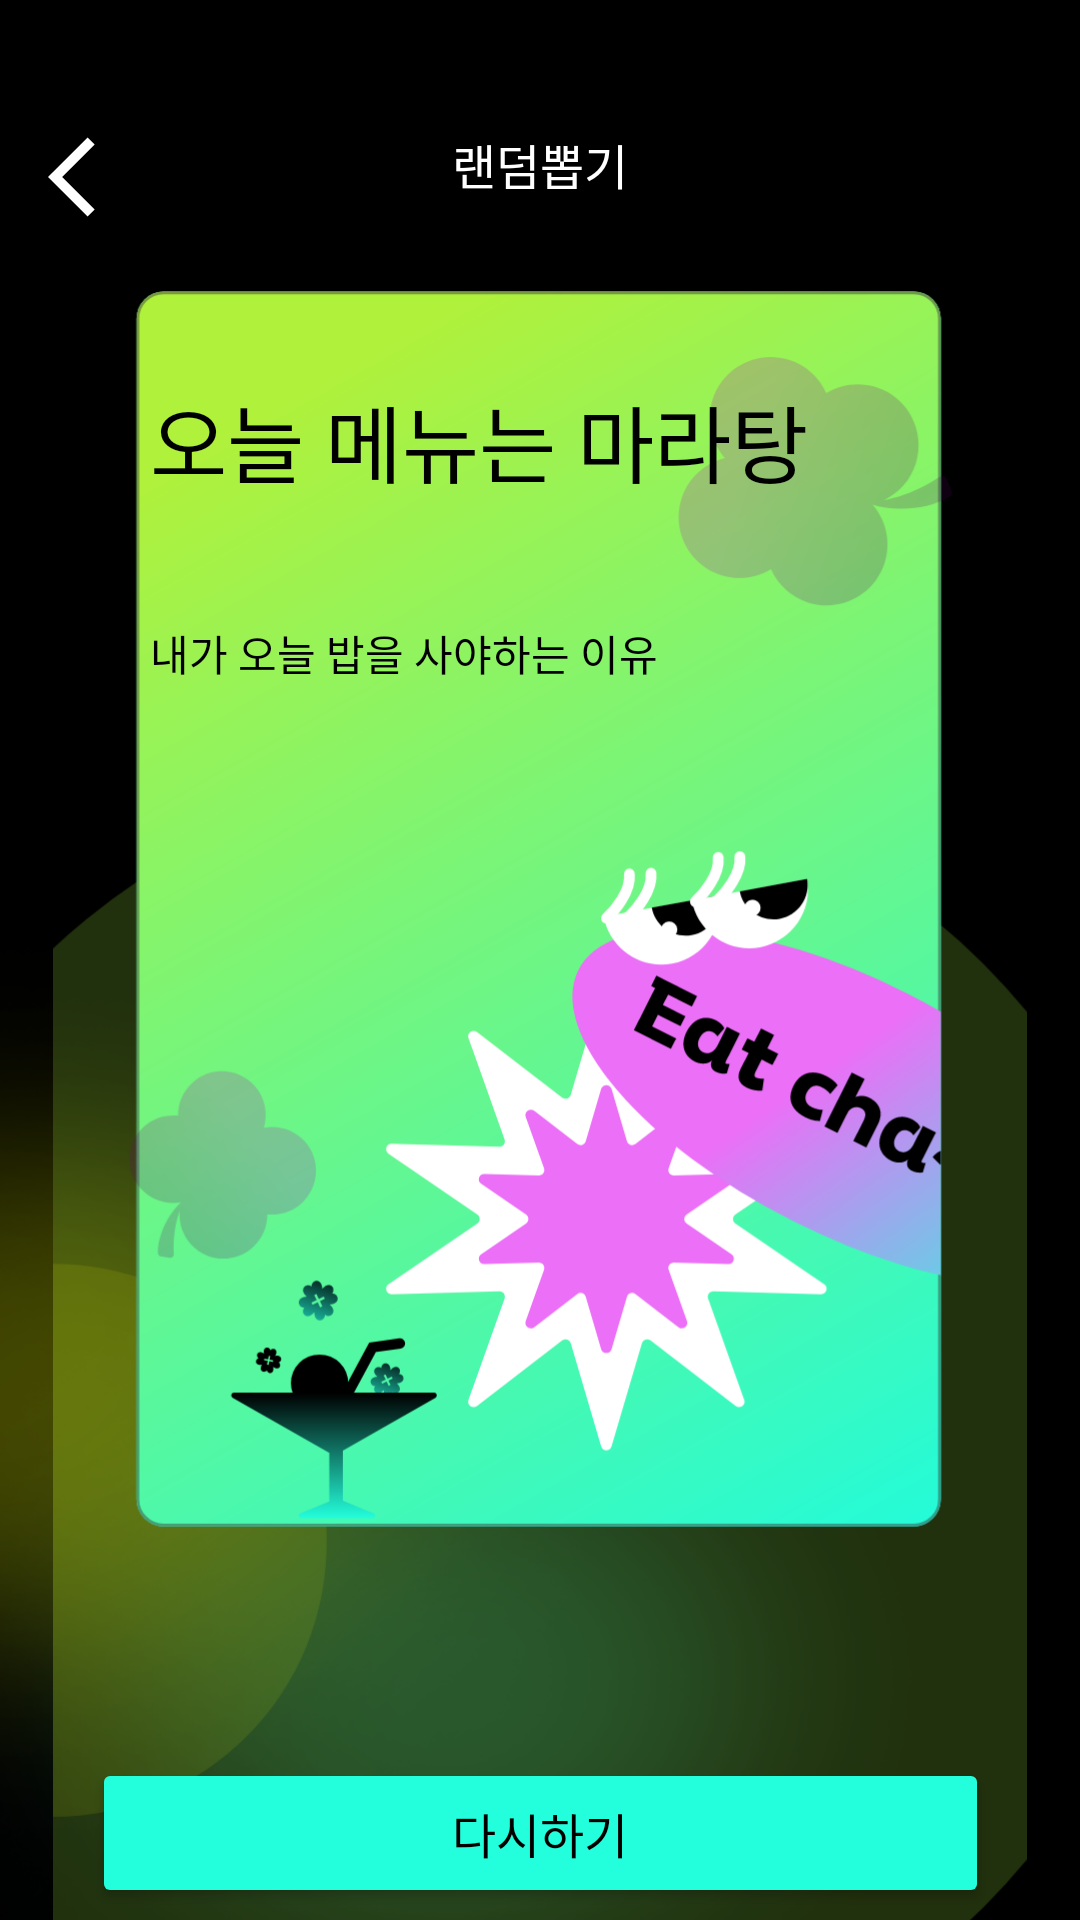

Screen size 1080 x 1920. Icon name, then its center in pixels as point (x, y):
arrow back: point (71, 177)
